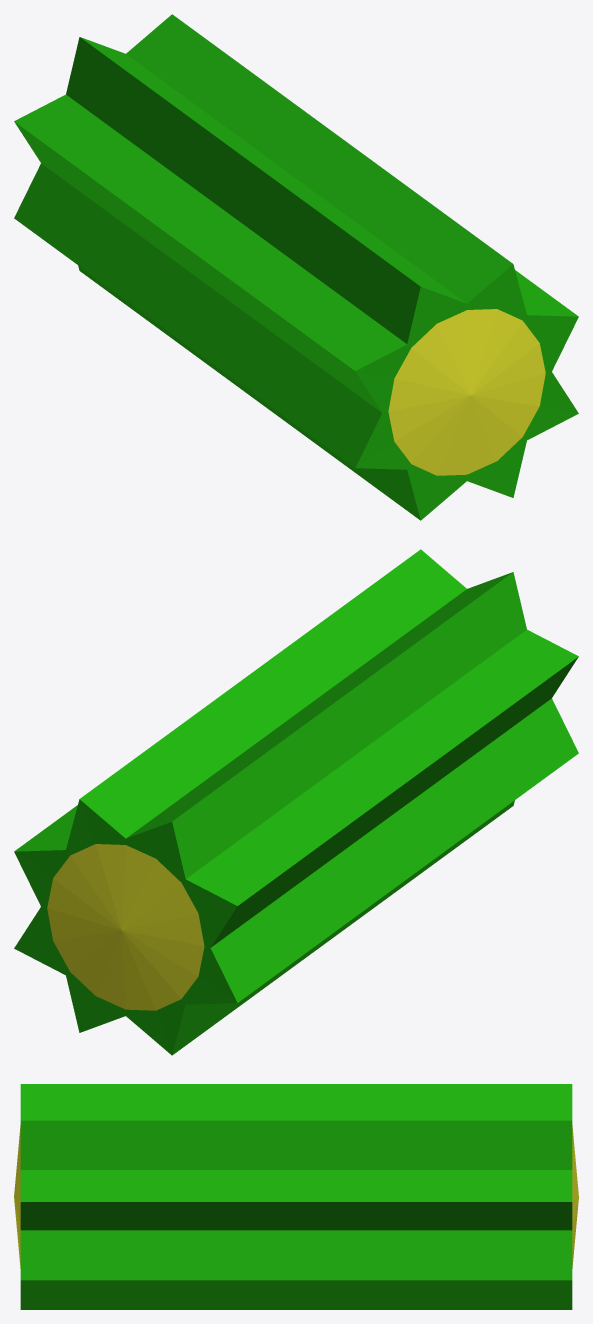
File: Cactus(Pickup).fbx
3 views of the same model, one above another, from view 1: azimuth 30°, elevation 25°; view 2: azimuth 150°, elevation 25°; view 3: azimuth 270°, elevation 25° (orthographic). The views are drawn at different scales.
Visible parts, largest first — view 1: CactusLog; view 2: CactusLog; view 3: CactusLog.
Part boxes in pixels (x1,y1,x2,y2): CactusLog: (14,14,578,520); CactusLog: (14,549,578,1055); CactusLog: (14,1084,578,1309).
Size of the model in its own units: 18.49 by 18.48 by 50.
